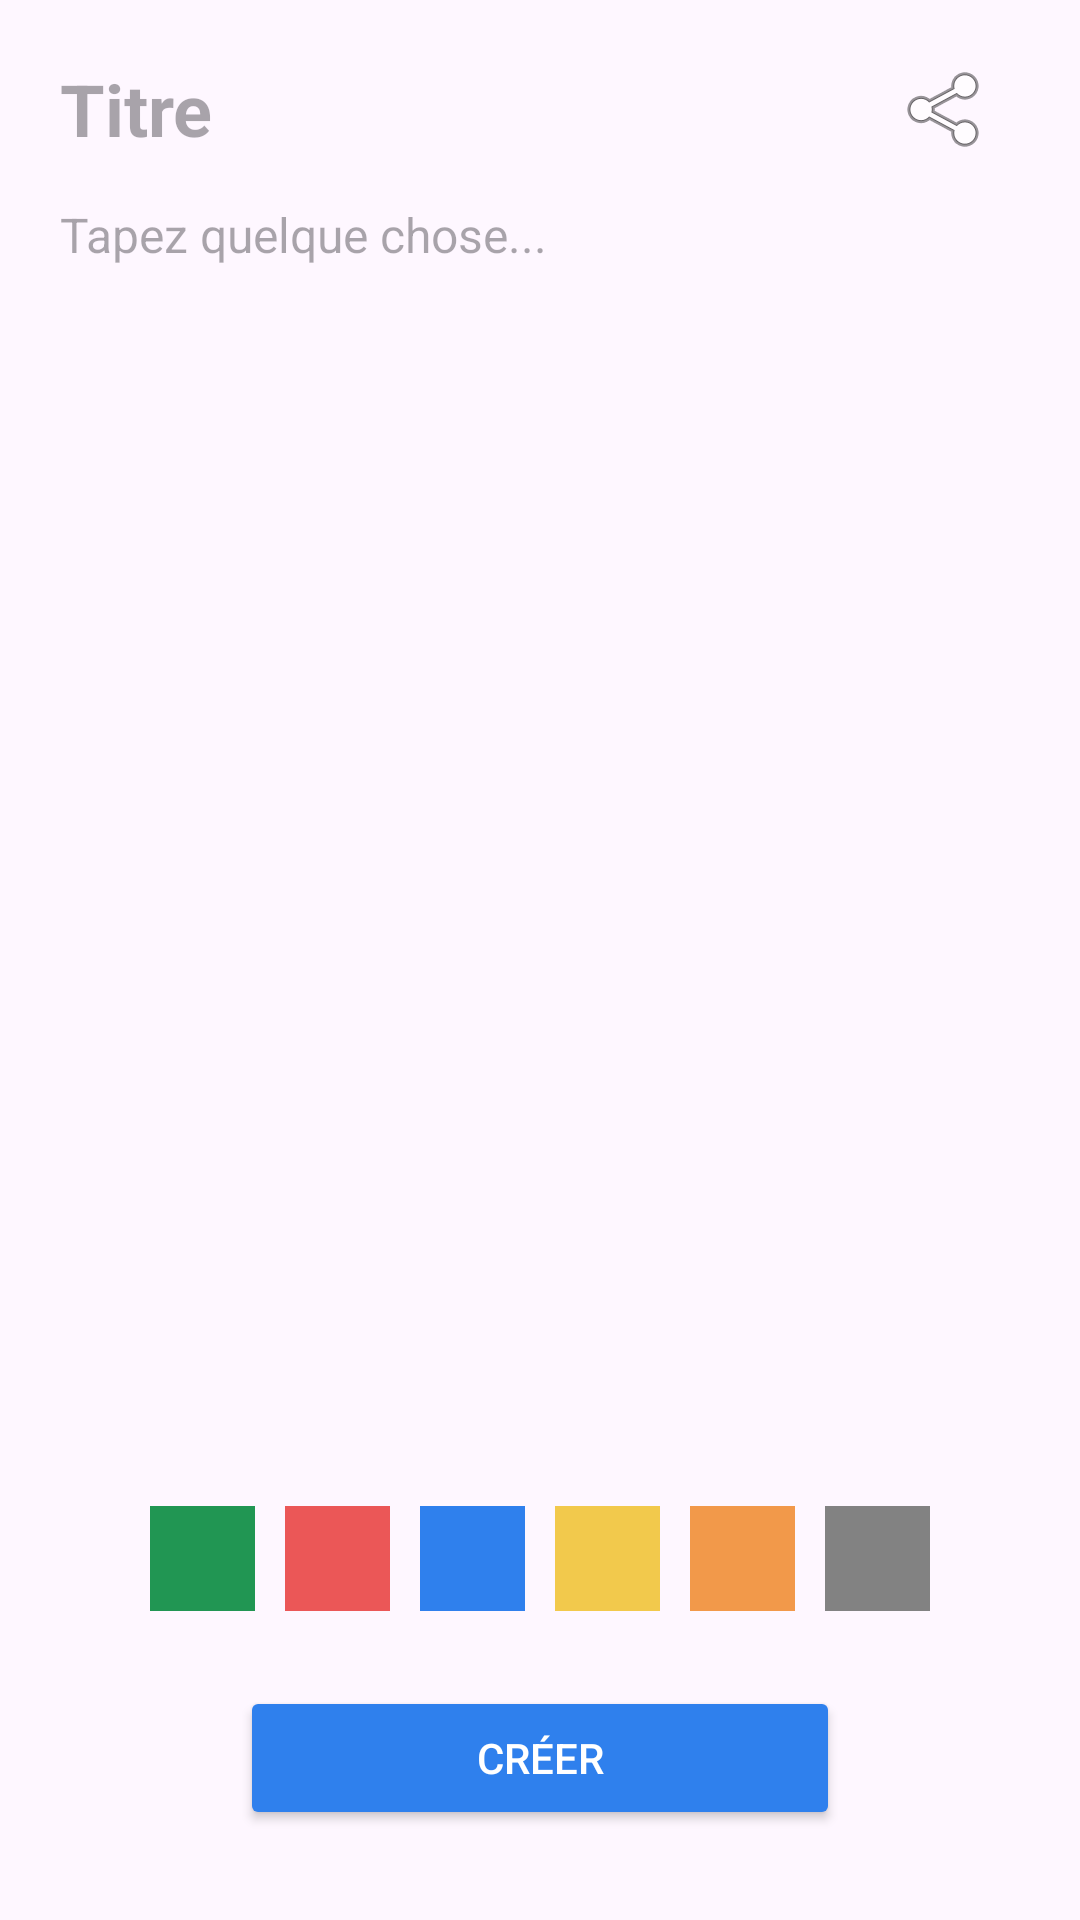

Screen size 1080w x 1920h. Icon name, then its center in pixels as (x=x, y=y):
Partager la note: (x=943, y=109)
